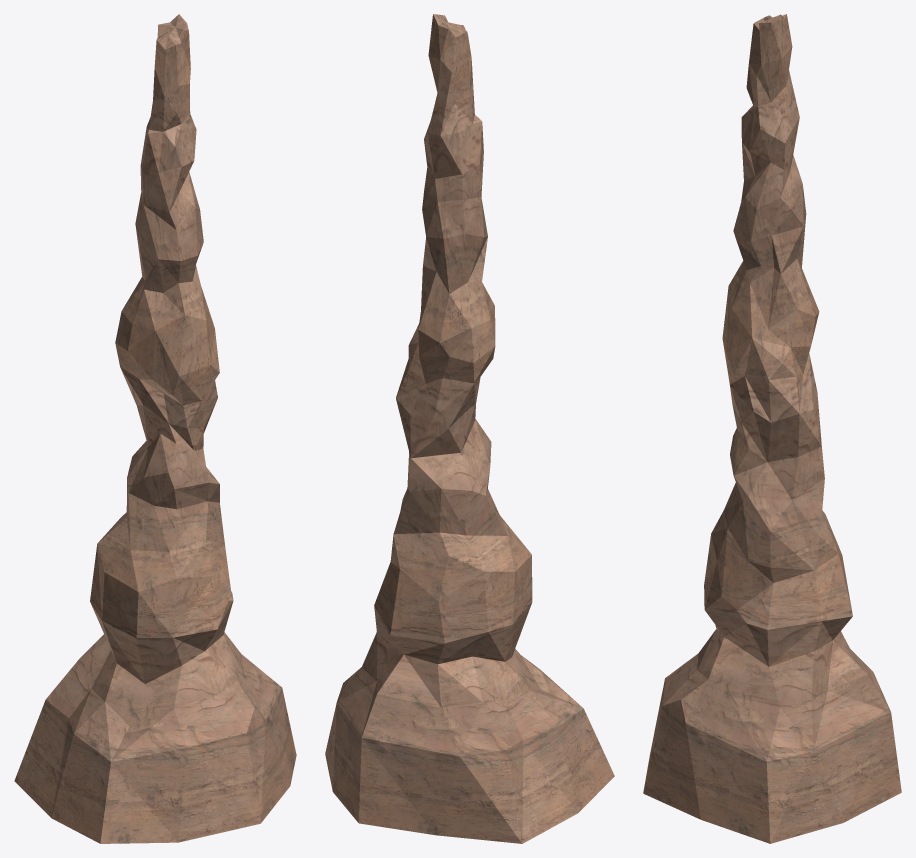
File: rock_tatt_spire_skinny_l0.fbx
3 renders of one model, left to right at view 1: azimuth 30°, elevation 25°; view 2: azimuth 150°, elevation 25°; view 3: azimuth 270°, elevation 25°, orthographic.
Visible parts, largest first — view 1: mesh_node; view 2: mesh_node; view 3: mesh_node.
Boxes of the visible parts, box(x1,y1,x2,y2) form: mesh_node: box(14, 14, 296, 843); mesh_node: box(325, 14, 614, 843); mesh_node: box(643, 14, 901, 843).
Bounding box in the file's own units: 25.81 × 76.06 × 23.01.
